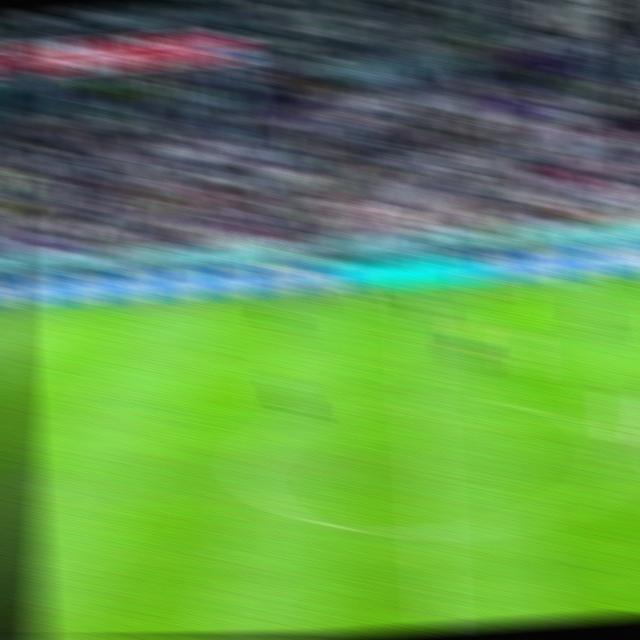halfcircle_bottom: (407, 513, 454, 552)
halfcircle_top: (398, 383, 445, 418)
midline_top_intersection: (397, 284, 431, 307)
